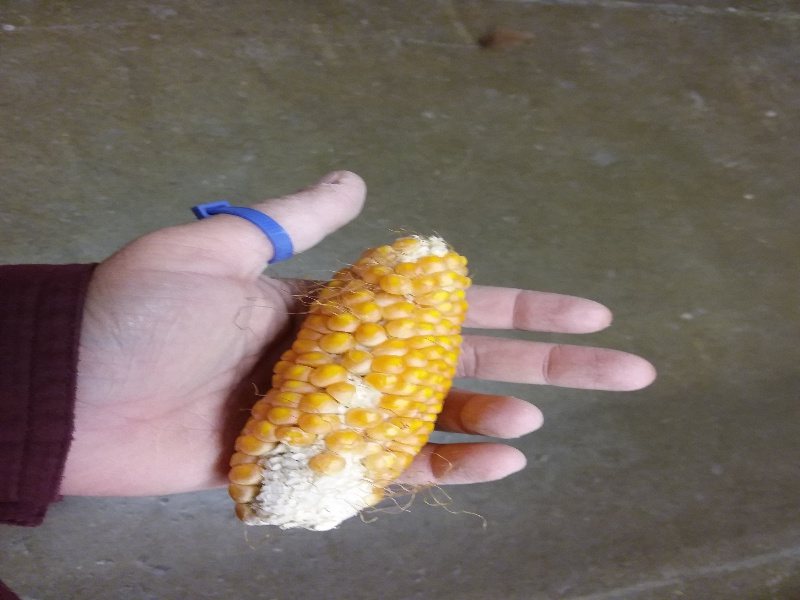band: (189, 201, 299, 263)
ear: (222, 226, 474, 532)
